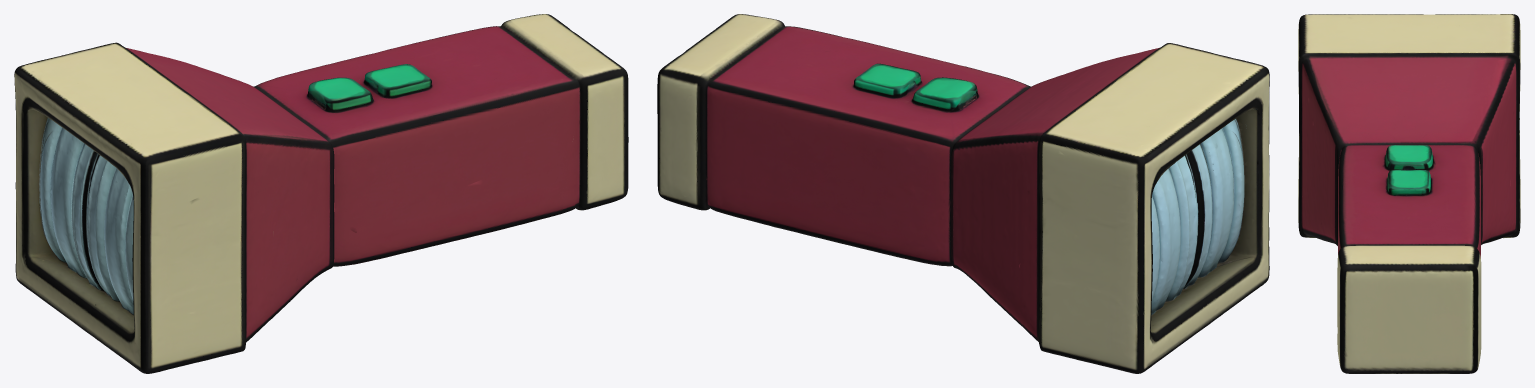
3 views of the same model, side by side, from view 1: azimuth 30°, elevation 25°; view 2: azimuth 150°, elevation 25°; view 3: azimuth 270°, elevation 25° (orthographic). The views are drawn at different scales.
Size of the model in its own units: 1.9 by 0.7731 by 0.8426.
Materials: 1 (1 with a texture image).
